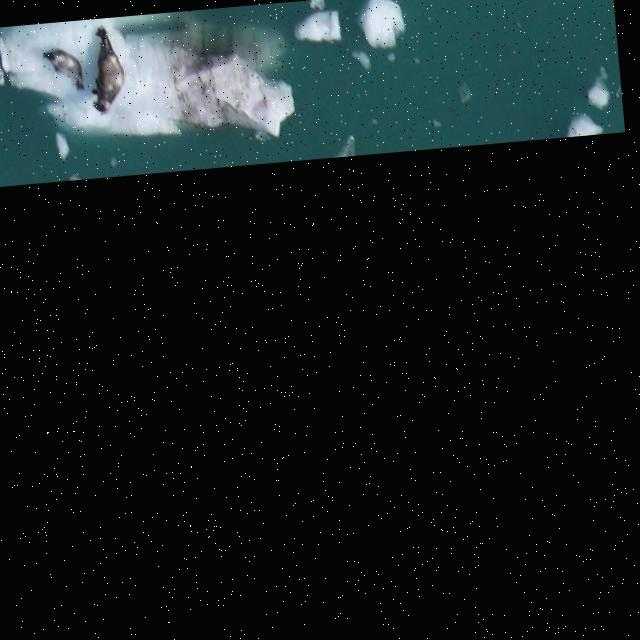seal: (88, 25, 124, 113), (36, 39, 96, 91)
